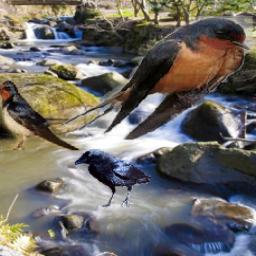Crow: (75, 150, 151, 208)
Swallow: (60, 17, 252, 141), (0, 80, 106, 151)
